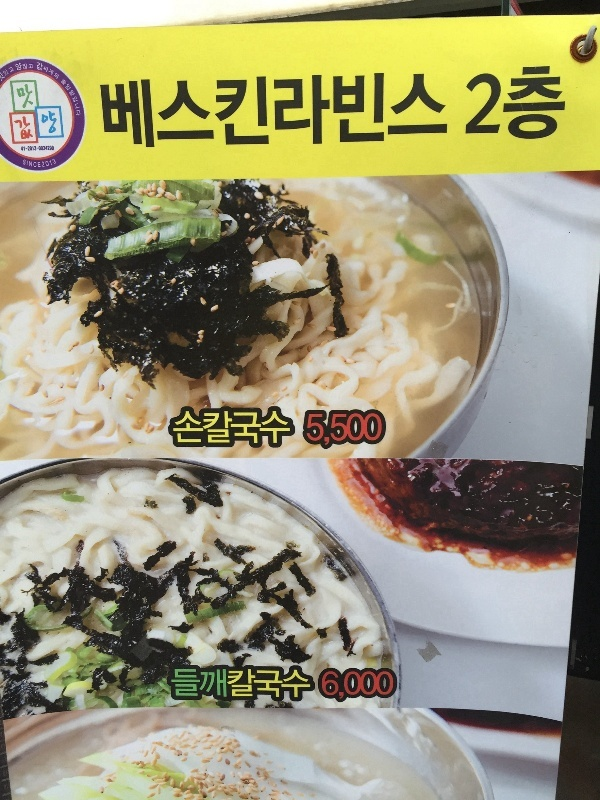text: (113, 63, 128, 174), (129, 63, 144, 174), (145, 63, 160, 174), (161, 63, 176, 174), (177, 63, 192, 174), (193, 63, 208, 174), (209, 63, 224, 174), (225, 63, 240, 174), (241, 63, 256, 174), (257, 63, 272, 174), (273, 63, 288, 174), (289, 63, 304, 174), (305, 63, 320, 174), (321, 63, 336, 174), (337, 63, 352, 174), (353, 63, 368, 174), (369, 63, 384, 174), (385, 63, 400, 174), (401, 63, 416, 174), (417, 63, 432, 174), (433, 63, 448, 174), (98, 63, 112, 174), (465, 55, 480, 151), (481, 55, 496, 151), (497, 55, 512, 151), (513, 55, 528, 151), (529, 55, 544, 151), (545, 55, 560, 151), (161, 395, 176, 467), (177, 395, 192, 467), (193, 395, 208, 467), (209, 395, 224, 467), (225, 395, 240, 467), (241, 395, 256, 467), (257, 395, 272, 467), (273, 395, 288, 467), (305, 398, 320, 462), (321, 398, 336, 462), (337, 398, 352, 462), (353, 398, 368, 462), (369, 398, 384, 462), (177, 659, 192, 718), (193, 659, 208, 718), (209, 659, 224, 718), (225, 659, 240, 718), (241, 659, 256, 718), (257, 659, 272, 718), (273, 659, 288, 718), (289, 659, 304, 718), (385, 662, 401, 714), (321, 662, 336, 714), (337, 662, 352, 714), (353, 662, 368, 714), (369, 662, 384, 714), (305, 659, 318, 718), (289, 395, 299, 467), (65, 71, 80, 118), (561, 55, 568, 151), (165, 659, 176, 718), (459, 55, 464, 151), (17, 83, 32, 110), (17, 116, 32, 142), (49, 109, 63, 136), (1, 64, 16, 87), (299, 398, 304, 462), (38, 109, 48, 136), (49, 60, 61, 82), (385, 398, 389, 462), (37, 60, 48, 82), (449, 63, 451, 174), (81, 71, 85, 118), (17, 62, 32, 73), (317, 662, 320, 714), (49, 157, 58, 170), (23, 157, 32, 169), (33, 157, 42, 169), (20, 145, 32, 153), (41, 157, 48, 170), (33, 83, 36, 110), (13, 116, 16, 142), (33, 116, 36, 142), (37, 146, 48, 151), (14, 83, 16, 110), (39, 145, 48, 151), (49, 145, 55, 151), (26, 146, 32, 151), (28, 146, 32, 152), (33, 146, 37, 152), (15, 62, 16, 73), (33, 62, 34, 73)
